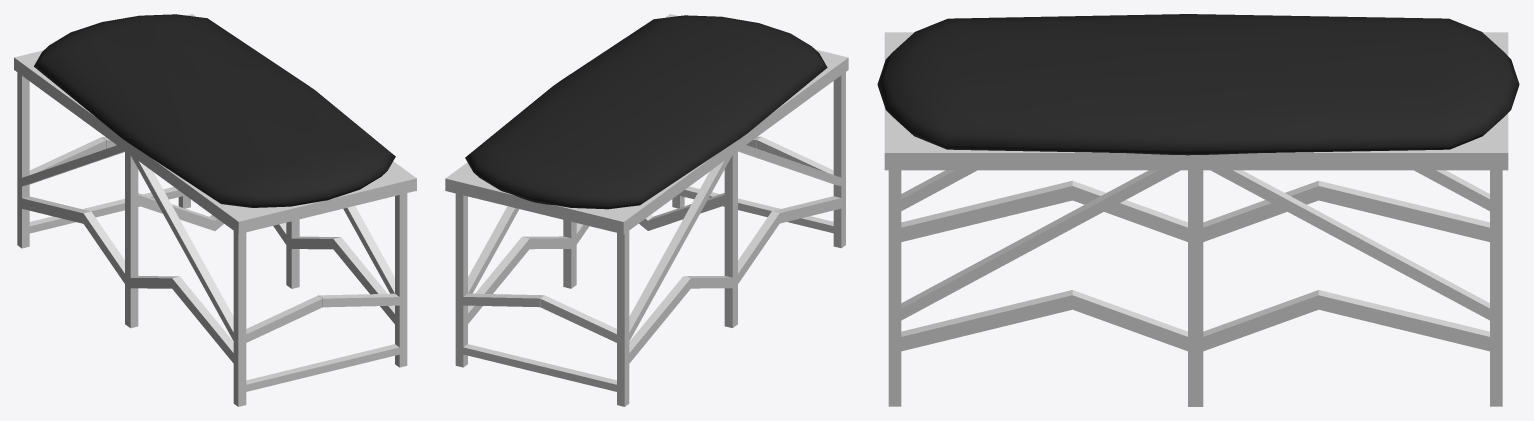
File: Camilla.FBX
3 renders of one model, left to right at view 1: azimuth 30°, elevation 25°; view 2: azimuth 150°, elevation 25°; view 3: azimuth 270°, elevation 25°, orthographic. The views are drawn at different scales.
Parts seen in each view (by area): view 1: Parte de arriba, Patas, Base; view 2: Parte de arriba, Patas, Base; view 3: Parte de arriba, Patas, Base.
Boxes of the visible parts, x1,y1,x2,y2 form: Parte de arriba: (34, 14, 395, 207); Patas: (17, 72, 407, 406); Base: (14, 14, 416, 233); Parte de arriba: (465, 15, 827, 209); Patas: (455, 72, 845, 406); Base: (445, 14, 848, 234); Parte de arriba: (877, 14, 1519, 155); Patas: (888, 170, 1502, 406); Base: (884, 32, 1508, 170).
Size of the model in its own units: 48.59 by 50.45 by 100.
Materials: 2 (2 with a texture image).
